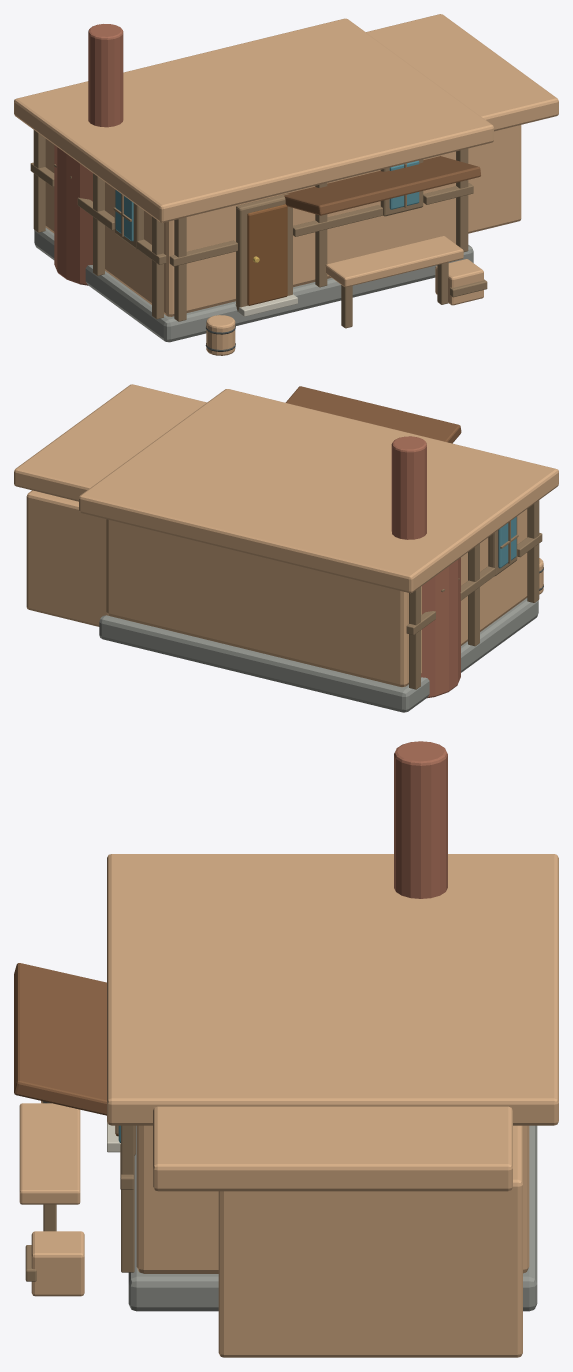
Rendered from arid-artisan-2.glb.
3 views of the same model, one above another, from view 1: azimuth 30°, elevation 25°; view 2: azimuth 150°, elevation 25°; view 3: azimuth 270°, elevation 25° (orthographic). The views are drawn at different scales.
Parts seen in each view (by area): view 1: Adobe cream, Adobe fieldstone, Palm beams, Adobe wood, Chimney brick, Foundation stone, Wood shingles, Door oak, Blue glass, Cut limestone; view 2: Adobe cream, Adobe fieldstone, Foundation stone, Adobe wood, Chimney brick, Palm beams, Wood shingles, Blue glass; view 3: Adobe cream, Adobe wood, Wood shingles, Adobe fieldstone, Chimney brick, Foundation stone, Palm beams.
Boxes of the visible parts, x1,y1,x2,y2 form: Adobe cream: (14, 14, 558, 222); Adobe fieldstone: (45, 139, 455, 316); Palm beams: (30, 130, 487, 328); Adobe wood: (206, 125, 521, 355); Chimney brick: (54, 24, 123, 285); Foundation stone: (34, 228, 473, 342); Wood shingles: (283, 156, 480, 215); Door oak: (247, 204, 287, 305); Blue glass: (115, 160, 419, 241); Cut limestone: (235, 294, 297, 316); Adobe cream: (14, 384, 558, 593); Adobe fieldstone: (106, 509, 527, 687); Foundation stone: (99, 598, 538, 712); Adobe wood: (26, 490, 543, 626); Chimney brick: (391, 436, 460, 698); Palm beams: (406, 500, 542, 689); Wood shingles: (285, 386, 461, 443); Blue glass: (498, 517, 516, 568); Adobe cream: (107, 854, 558, 1191); Adobe wood: (19, 1101, 522, 1357); Wood shingles: (14, 963, 106, 1115); Adobe fieldstone: (136, 1125, 529, 1273); Chimney brick: (394, 741, 447, 898); Foundation stone: (128, 1125, 537, 1311); Palm beams: (25, 1125, 135, 1281).
Bounding box in the file's own units: 5.38 × 2.93 × 4.03.
